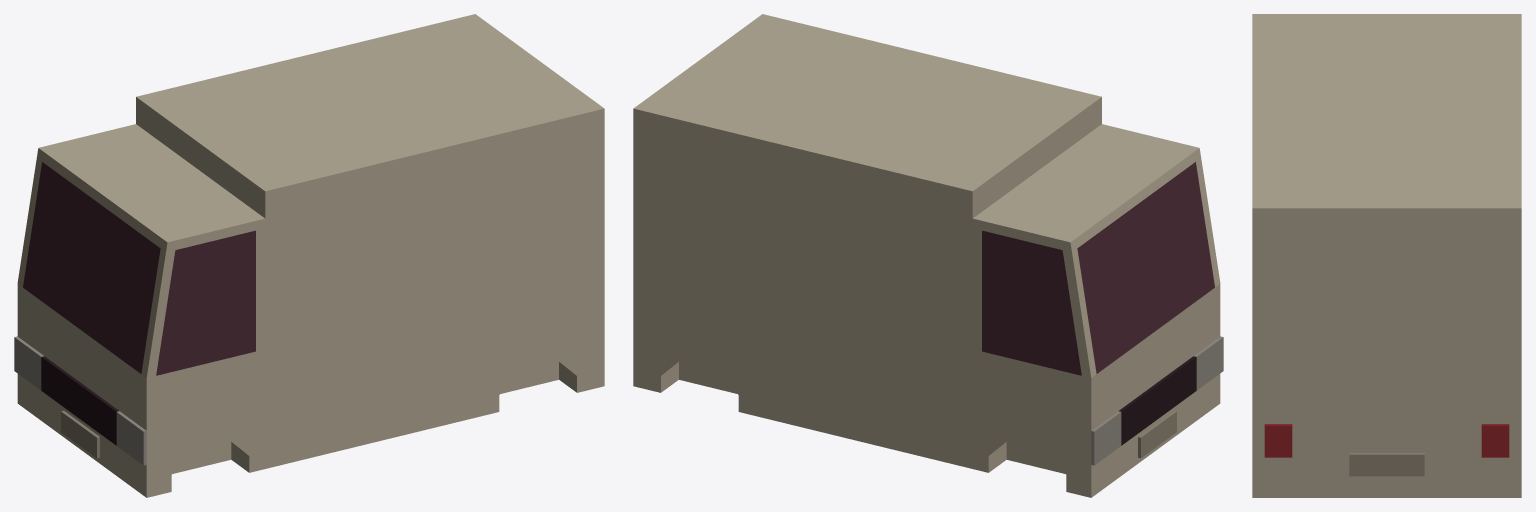
The model's file is MiniTruck_White.fbx.
3 views of the same model, side by side, from view 1: azimuth 30°, elevation 25°; view 2: azimuth 150°, elevation 25°; view 3: azimuth 270°, elevation 25° (orthographic). The views are drawn at different scales.
Parts seen in each view (by area): view 1: MiniTruck_White, MiniTruck_Lights; view 2: MiniTruck_White, MiniTruck_Lights; view 3: MiniTruck_White, MiniTruck_Lights.
Boxes of the visible parts, bbox=[...] form: MiniTruck_White: bbox=[17, 14, 604, 497]; MiniTruck_Lights: bbox=[14, 336, 146, 465]; MiniTruck_White: bbox=[633, 14, 1220, 497]; MiniTruck_Lights: bbox=[1091, 336, 1223, 465]; MiniTruck_White: bbox=[1252, 14, 1521, 497]; MiniTruck_Lights: bbox=[1264, 424, 1509, 457].
Bounding box in the file's own units: 4.46 × 2.55 × 2.15.
